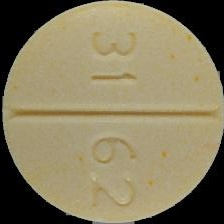63739-537: (0, 0, 224, 224)
